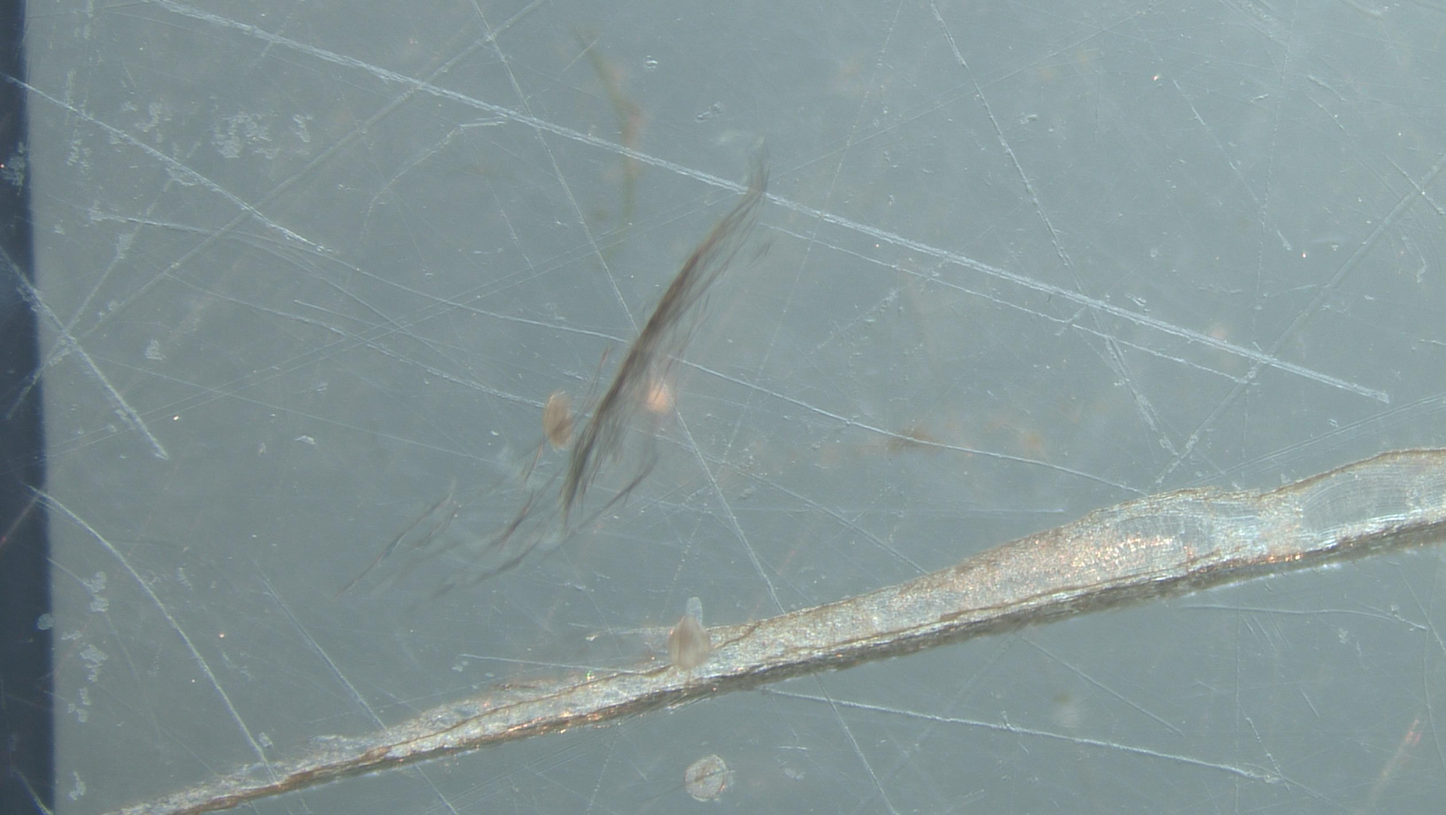dead: (684, 755, 733, 802)
live: (666, 597, 712, 670)
